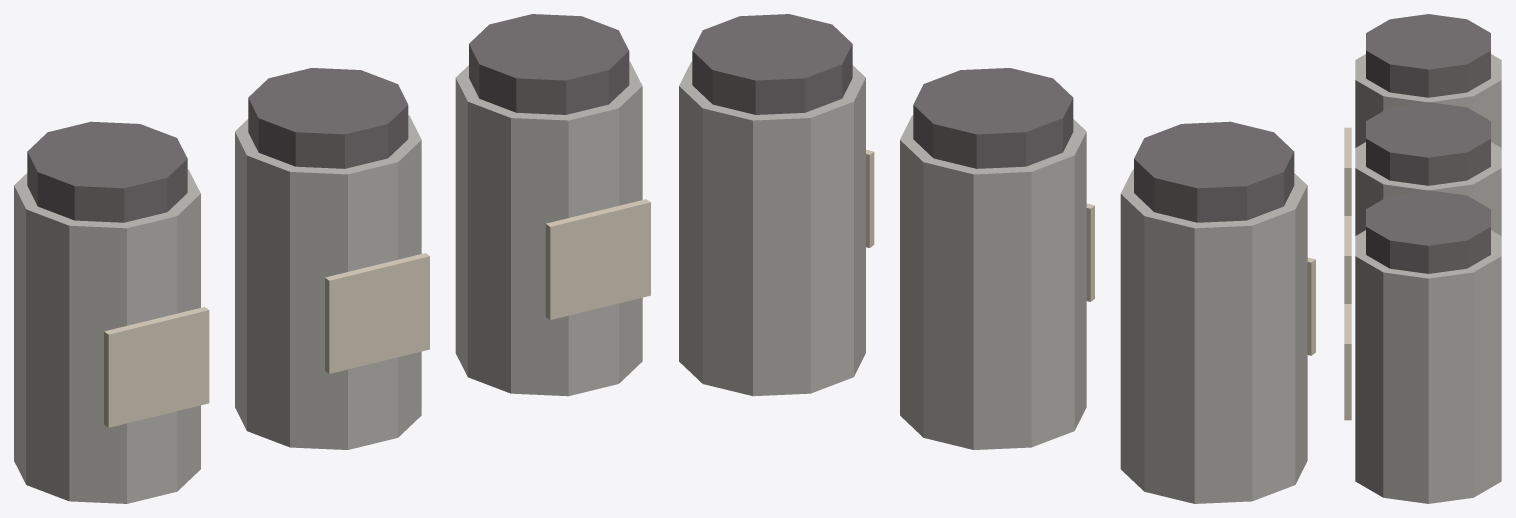
The model's file is herbalist_medicine_jars.glb.
3 renders of one model, left to right at view 1: azimuth 30°, elevation 25°; view 2: azimuth 150°, elevation 25°; view 3: azimuth 270°, elevation 25°, orthographic. The views are drawn at different scales.
Visible parts, largest first — view 1: cylinder_6, cylinder_0, cylinder_3, cylinder_1, cylinder_4, cylinder_7, box_8, box_2, box_5; view 2: cylinder_0, cylinder_3, cylinder_6, cylinder_7, cylinder_1, cylinder_4, box_2, box_5, box_8; view 3: cylinder_6, cylinder_4, cylinder_1, cylinder_7, cylinder_0, cylinder_3, box_8, box_2, box_5.
Boxes of the visible parts, <box> form: cylinder_6: <box>455,61,642,396</box>; cylinder_0: <box>14,169,200,503</box>; cylinder_3: <box>235,115,421,449</box>; cylinder_1: <box>27,121,187,222</box>; cylinder_4: <box>248,68,408,168</box>; cylinder_7: <box>469,14,629,114</box>; box_8: <box>545,199,650,319</box>; box_2: <box>104,307,209,427</box>; box_5: <box>325,253,429,373</box>; cylinder_0: <box>1120,169,1307,503</box>; cylinder_3: <box>900,115,1086,449</box>; cylinder_6: <box>679,61,865,396</box>; cylinder_7: <box>692,14,852,114</box>; cylinder_1: <box>1134,121,1294,222</box>; cylinder_4: <box>913,68,1073,168</box>; box_2: <box>1307,257,1315,355</box>; box_5: <box>1086,203,1094,301</box>; box_8: <box>866,149,874,247</box>; cylinder_6: <box>1355,230,1501,503</box>; cylinder_4: <box>1366,102,1490,185</box>; cylinder_1: <box>1366,14,1490,97</box>; cylinder_7: <box>1366,190,1490,273</box>; cylinder_0: <box>1355,54,1501,147</box>; cylinder_3: <box>1355,142,1501,235</box>; box_8: <box>1344,304,1351,420</box>; box_2: <box>1344,127,1351,215</box>; box_5: <box>1344,216,1351,303</box>.
Bounding box in the file's own units: 1.56 × 0.765 × 0.4297.
